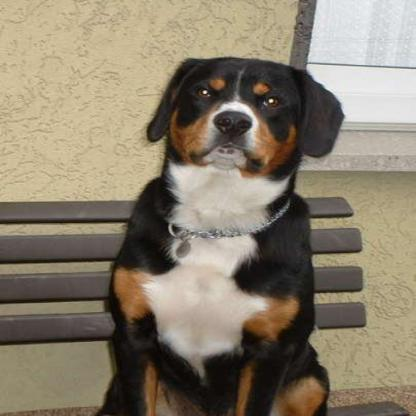EntleBucher: (88, 56, 348, 414)
